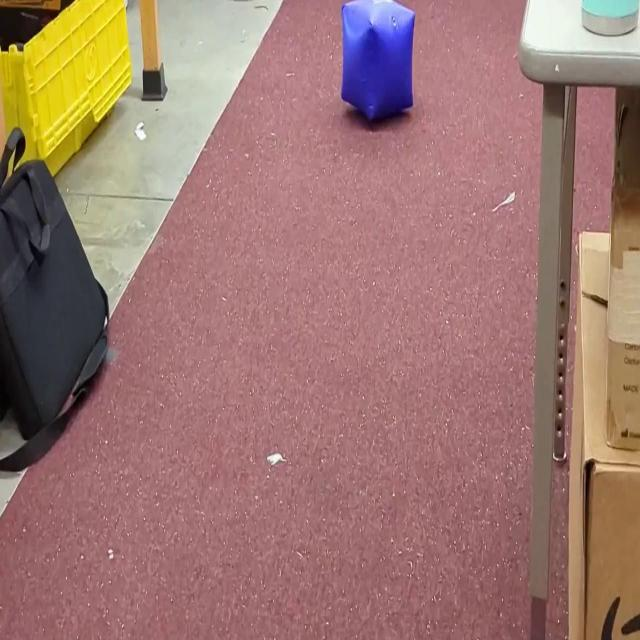frc_cube: (340, 0, 415, 125)
